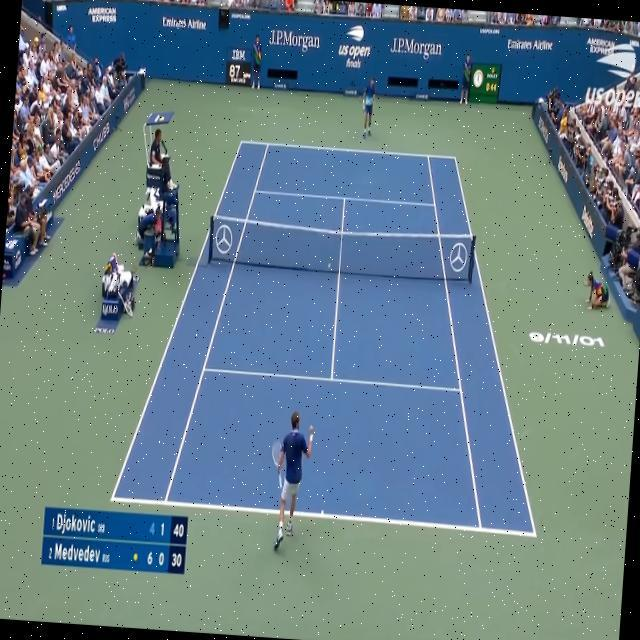Emirates: (161, 15, 187, 30), (507, 37, 533, 51)
